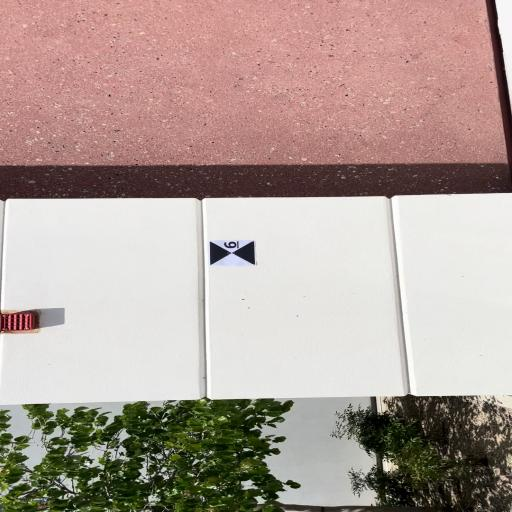target6: (210, 240, 256, 266)
